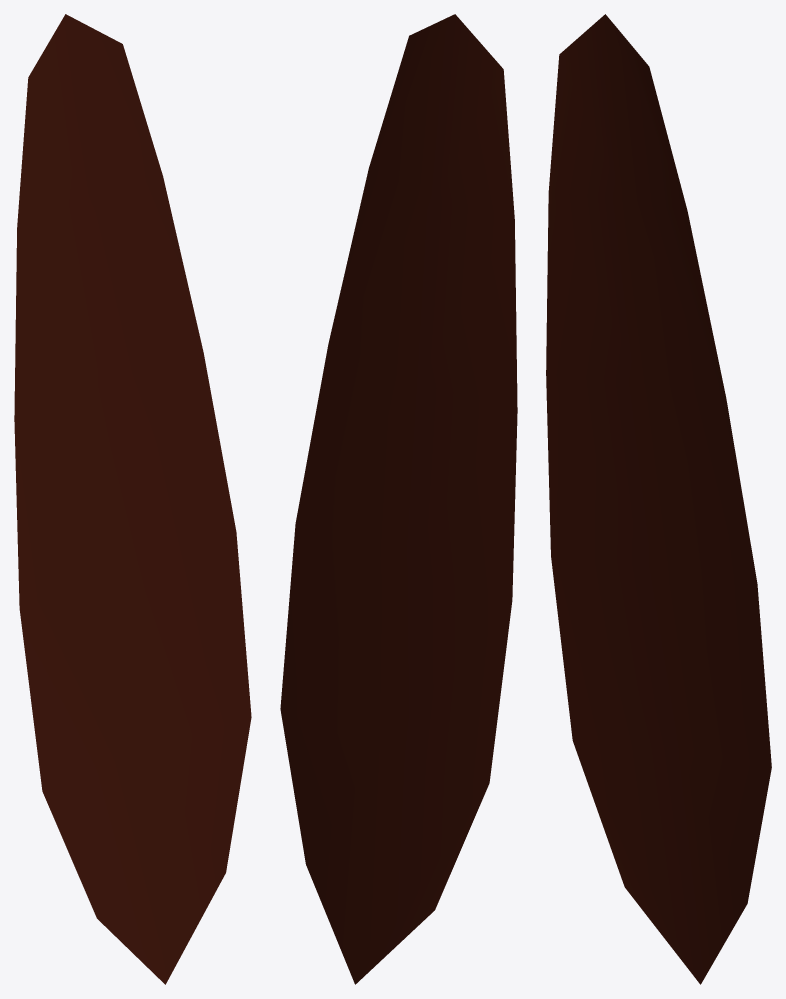
File: pheasant_feather_flight_secondary_033.obj
The picture shows the model from 3 angles, left to right: view 1: azimuth 30°, elevation 25°; view 2: azimuth 150°, elevation 25°; view 3: azimuth 330°, elevation 25°; orthographic projection. The views are drawn at different scales.
Visible parts, largest first — view 1: feather_flight_secondary_033; view 2: feather_flight_secondary_033; view 3: feather_flight_secondary_033.
Part boxes in pixels (<box>): feather_flight_secondary_033: <box>14,14,251,984</box>; feather_flight_secondary_033: <box>280,14,517,984</box>; feather_flight_secondary_033: <box>546,14,771,984</box>.
Bounding box in the file's own units: 0.0154 × 0.0619 × 0.000633.
